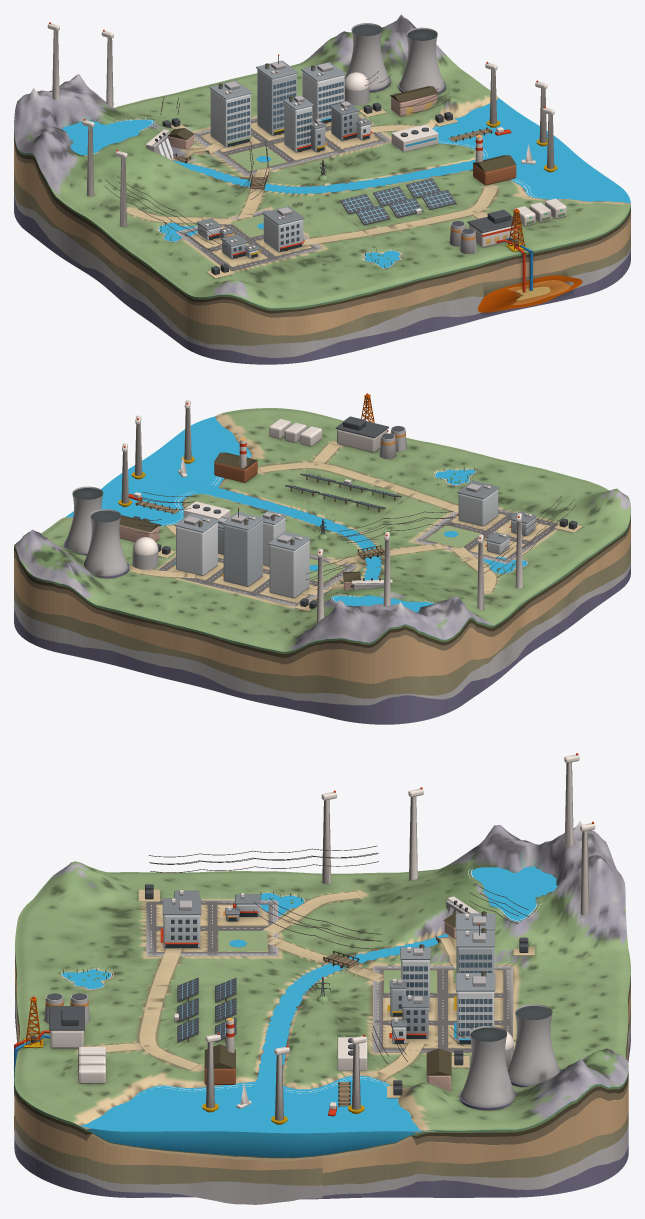
File: island.glb
3 views of the same model, one above another, from view 1: azimuth 30°, elevation 25°; view 2: azimuth 150°, elevation 25°; view 3: azimuth 270°, elevation 25° (orthographic). The views are drawn at different scales.
Parts seen in each view (by area): view 1: ground, static, rock, water, lights_window, lights_magma, foam; view 2: ground, rock, static, water; view 3: ground, static, rock, water, lights_window, foam.
Boxes of the visible parts, box(x1,y1,x2,y2) form: ground: box(14, 14, 630, 308); static: box(47, 23, 582, 312); rock: box(14, 130, 630, 364); water: box(61, 98, 630, 268); lights_window: box(209, 80, 369, 258); lights_magma: box(508, 280, 570, 305); foam: box(85, 97, 555, 268); ground: box(14, 408, 630, 651); rock: box(14, 514, 630, 724); static: box(64, 394, 582, 623); water: box(65, 416, 527, 612); ground: box(14, 821, 630, 1157); static: box(14, 754, 595, 1130); rock: box(14, 951, 630, 1204); water: box(62, 866, 557, 1133); lights_window: box(165, 913, 492, 1044); foam: box(60, 869, 540, 1131).
Bounding box in the file's own units: 625 × 249 × 626.
